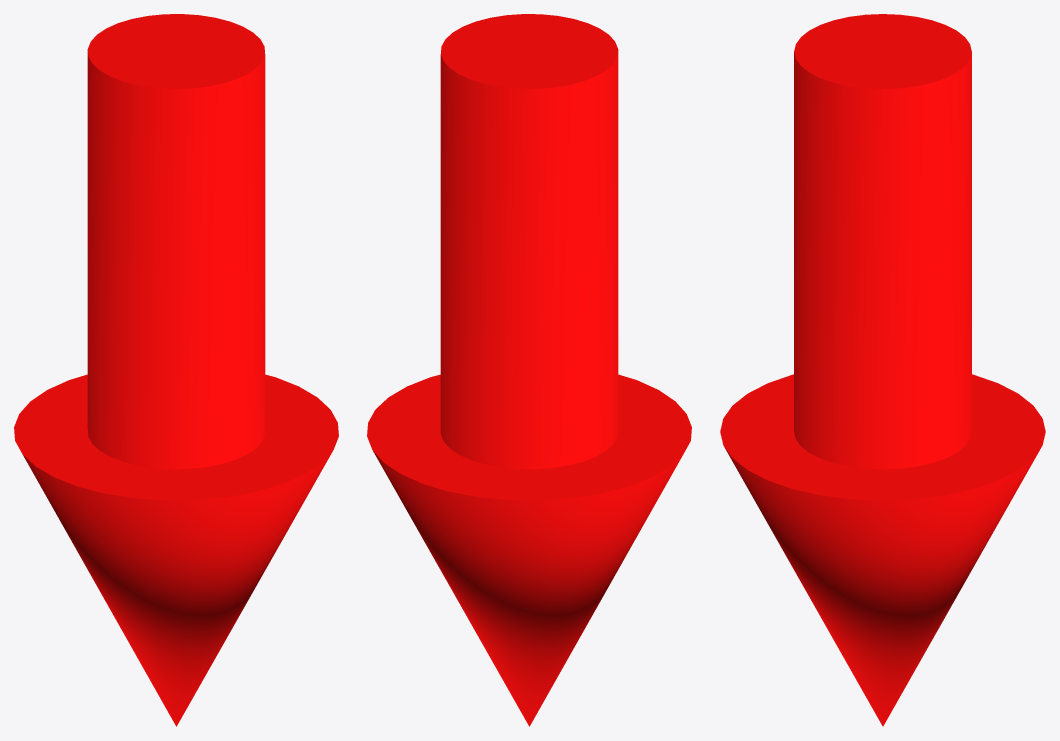
The model's file is fleche.glb.
3 views of the same model, side by side, from view 1: azimuth 30°, elevation 25°; view 2: azimuth 150°, elevation 25°; view 3: azimuth 270°, elevation 25° (orthographic).
Parts seen in each view (by area): view 1: fleche; view 2: fleche; view 3: fleche.
Boxes of the visible parts, box(x1,y1,x2,y2) form: fleche: box(14, 14, 338, 726); fleche: box(367, 14, 691, 726); fleche: box(720, 14, 1045, 726).
Bounding box in the file's own units: 2 × 4.58 × 2.
